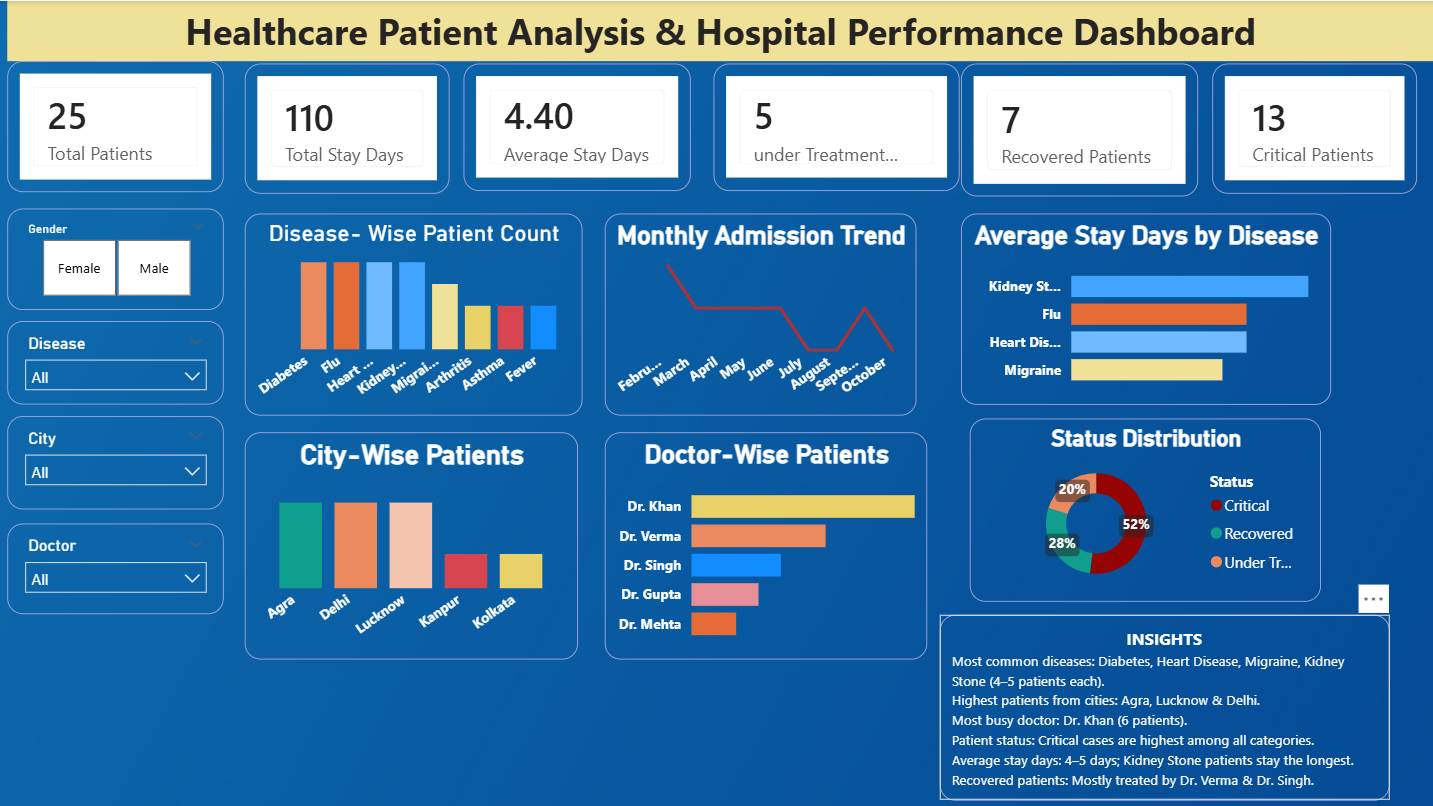

This screenshot's page, from the dashboard's own definition file:
{"tool":"powerbi","page":{"name":"Page 1","canvas":[1280,720],"ordinal":0},"visuals":[{"type":"textbox","box":[9.6,0,1270.7,53.5],"z":0},{"type":"clusteredColumnChart","title":"Disease- Wise Patient Count","fields":{"Category":["Sheet1.Disease"],"Y":["Sheet1.Total Patients"]},"box":[222,189.4,300.4,179.8],"z":1000},{"type":"donutChart","title":" Status Distribution","fields":{"Category":["Sheet1.Status"],"Y":["Sheet1.Total Patients"]},"box":[867.2,371.9,312.9,163.3],"z":2000},{"type":"clusteredColumnChart","title":"City-Wise Patients","fields":{"Category":["Sheet1.City"],"Y":["Sheet1.Total Patients"]},"box":[222,383.6,296.8,202.7],"z":3000},{"type":"barChart","title":" Doctor-Wise Patients","fields":{"Category":["Sheet1.Doctor"],"Y":["Sheet1.Total Patients"]},"box":[541.7,383.6,287.1,202.7],"z":4000},{"type":"barChart","fields":{"Category":["Sheet1.Disease"],"Y":["Sheet1.Average Stay Days"]},"box":[859,189.4,329.3,170.2],"z":5000},{"type":"lineChart","title":"Monthly Admission Trend","fields":{"Category":["Sheet1.Admission_Date.Variation.Date Hierarchy.Month"],"Y":["Sheet1.Total Patients"]},"box":[541.7,189.4,277.5,179.8],"z":6000},{"type":"cardVisual","fields":{"Data":["Sheet1.Total Patients"]},"box":[9.7,53.1,193,117],"z":7000},{"type":"cardVisual","fields":{"Data":["Sheet1.Total Stay Days"]},"box":[222,55.5,182.2,115.8],"z":8000},{"type":"cardVisual","fields":{"Data":["Sheet1.Average Stay Days"]},"box":[416.2,55.5,202.7,113.4],"z":9000},{"type":"cardVisual","fields":{"Data":["Sheet1.under Treatment Patients"]},"box":[639.4,55.5,219.6,113.4],"z":10000},{"type":"cardVisual","fields":{"Data":["Sheet1.Recovered Patients"]},"box":[859,55.5,211.1,118.2],"z":11000},{"type":"cardVisual","fields":{"Data":["Sheet1.Critical Patients"]},"box":[1083.4,55.5,182.2,115.8],"z":12000},{"type":"slicer","fields":{"Values":["Sheet1.Gender"]},"box":[9.7,184.6,193,90.5],"z":13000},{"type":"slicer","fields":{"Values":["Sheet1.Doctor"]},"box":[9.7,465.7,193,80.8],"z":14000},{"type":"slicer","fields":{"Values":["Sheet1.City"]},"box":[9.7,369.2,193,83.2],"z":15000},{"type":"slicer","fields":{"Values":["Sheet1.Disease"]},"box":[9.7,284.7,193,74.8],"z":16000},{"type":"textbox","box":[840.9,546.5,400.5,165.3],"z":17000}]}

Visuals, with their boxes in screenshot pixels (x1, y1, x2, y2), scaled from the page's 1280x720 canvas onto the 1433x806 screenshot:
textbox: (11,0,1432,60)
"Disease- Wise Patient Count" clusteredColumnChart: (249,212,585,413)
" Status Distribution" donutChart: (971,416,1321,599)
"City-Wise Patients" clusteredColumnChart: (249,429,581,656)
" Doctor-Wise Patients" barChart: (606,429,928,656)
barChart - Sheet1.Disease x Sheet1.Average Stay Days: (962,212,1330,403)
"Monthly Admission Trend" lineChart: (606,212,917,413)
cardVisual - Sheet1.Total Patients: (11,59,227,190)
cardVisual - Sheet1.Total Stay Days: (249,62,453,192)
cardVisual - Sheet1.Average Stay Days: (466,62,693,189)
cardVisual - Sheet1.under Treatment Patients: (716,62,962,189)
cardVisual - Sheet1.Recovered Patients: (962,62,1198,194)
cardVisual - Sheet1.Critical Patients: (1213,62,1417,192)
slicer - Sheet1.Gender: (11,207,227,308)
slicer - Sheet1.Doctor: (11,521,227,612)
slicer - Sheet1.City: (11,413,227,506)
slicer - Sheet1.Disease: (11,319,227,402)
textbox: (941,612,1390,797)
